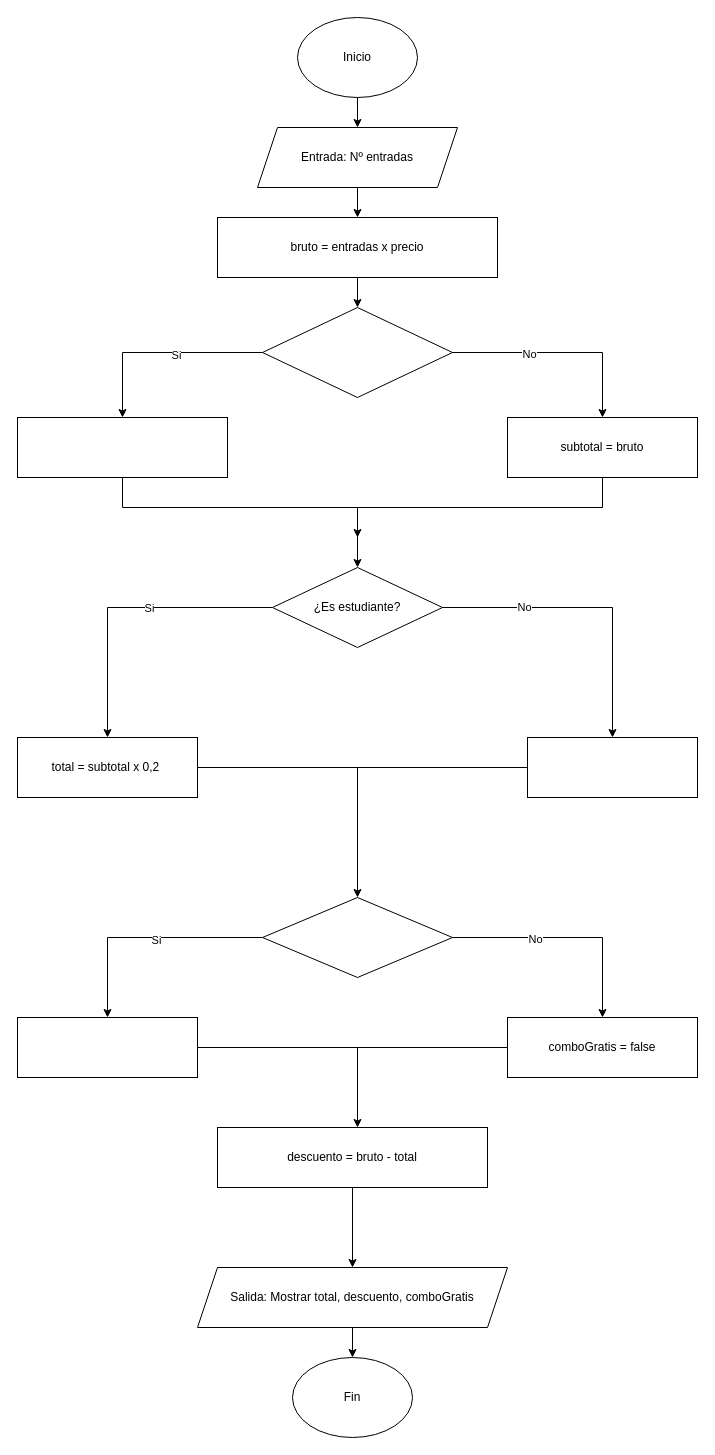
Some shapes in this 715 by 1455 pixel diagram are drawn without their labels. Here are the shapes that lost their labels. From the top down, the centre of each, then its label:
At point 357,352: "¿Es miércoles?".
At point 122,447: "subtotal = bruto x 0,5".
At point 612,767: "total = subtotal".
At point 357,937: "¿total >30?".
At point 107,1047: "comboGratis = true".
